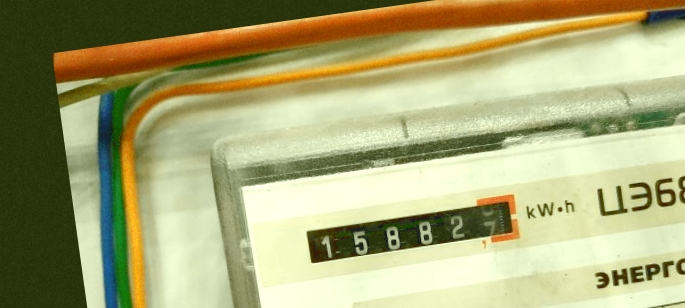1: (317, 231, 335, 261)
2: (447, 212, 467, 242)
5: (349, 227, 371, 256)
7: (480, 217, 498, 236)
8: (382, 223, 401, 253), (415, 217, 434, 247)
screen: (290, 184, 531, 278)
